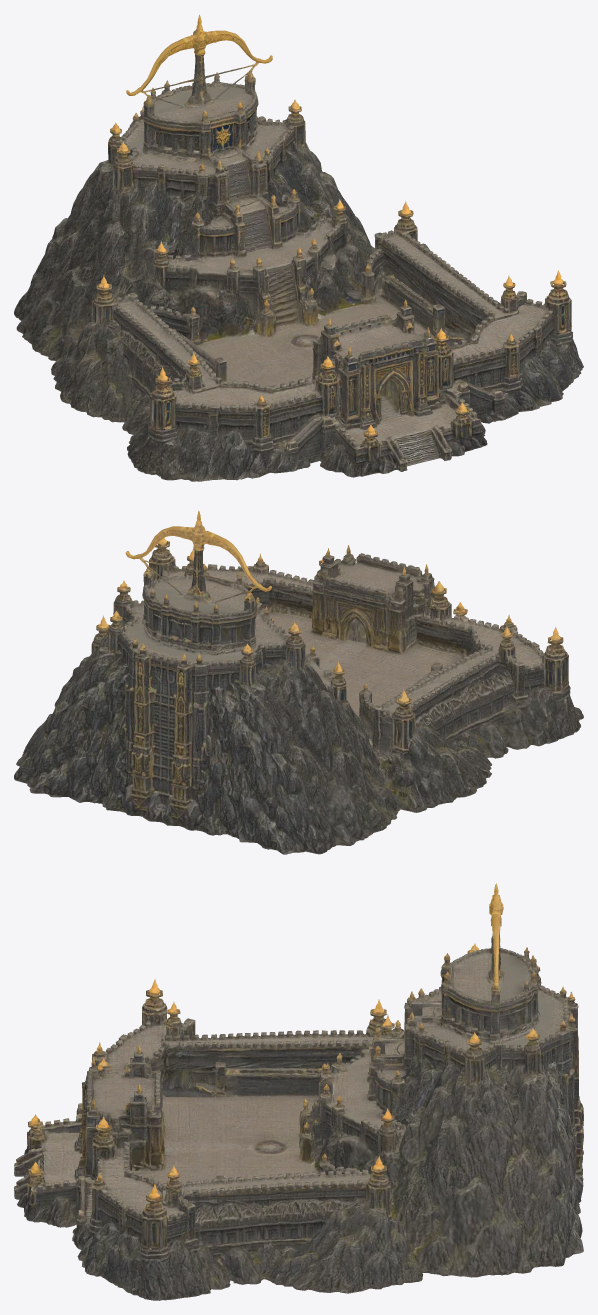
The model's file is ArashHorizonWatch.glb.
The picture shows the model from 3 angles, top to bottom: view 1: azimuth 30°, elevation 25°; view 2: azimuth 150°, elevation 25°; view 3: azimuth 270°, elevation 25°; orthographic projection. The views are drawn at different scales.
Bounding box in the file's own units: 1.81 × 1.12 × 1.9.
Materials: 1 (1 with a texture image).
